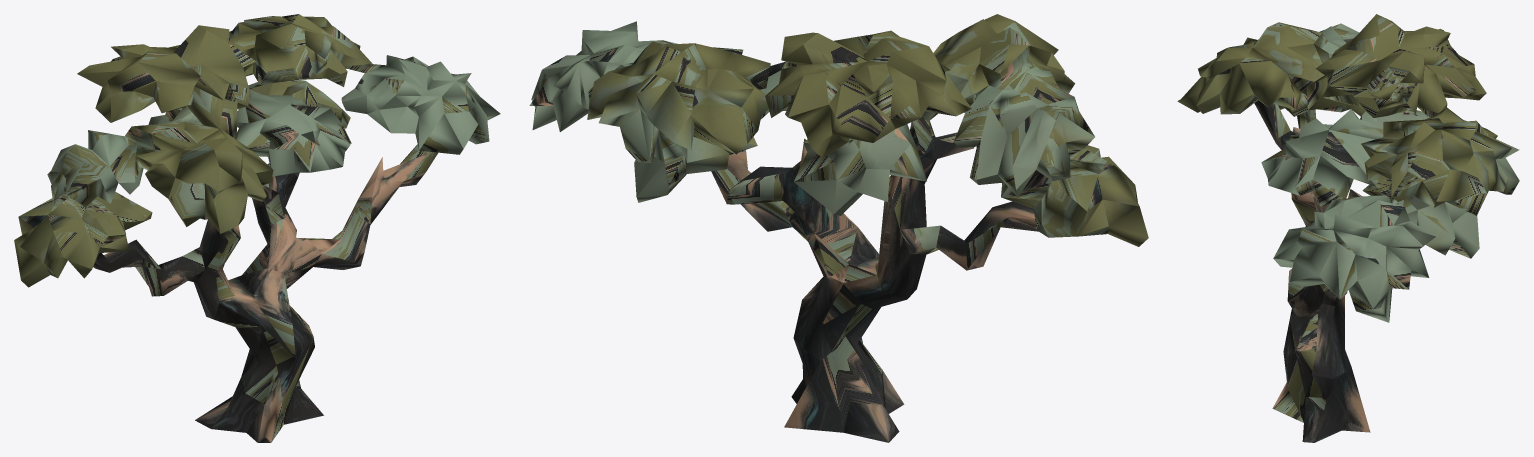
File: mesquite.glb
The picture shows the model from 3 angles, left to right: view 1: azimuth 30°, elevation 25°; view 2: azimuth 150°, elevation 25°; view 3: azimuth 270°, elevation 25°; orthographic projection. The views are drawn at different scales.
Bounding box in the file's own units: 1.89 × 1.32 × 1.14.
1 material, 1 textured.
